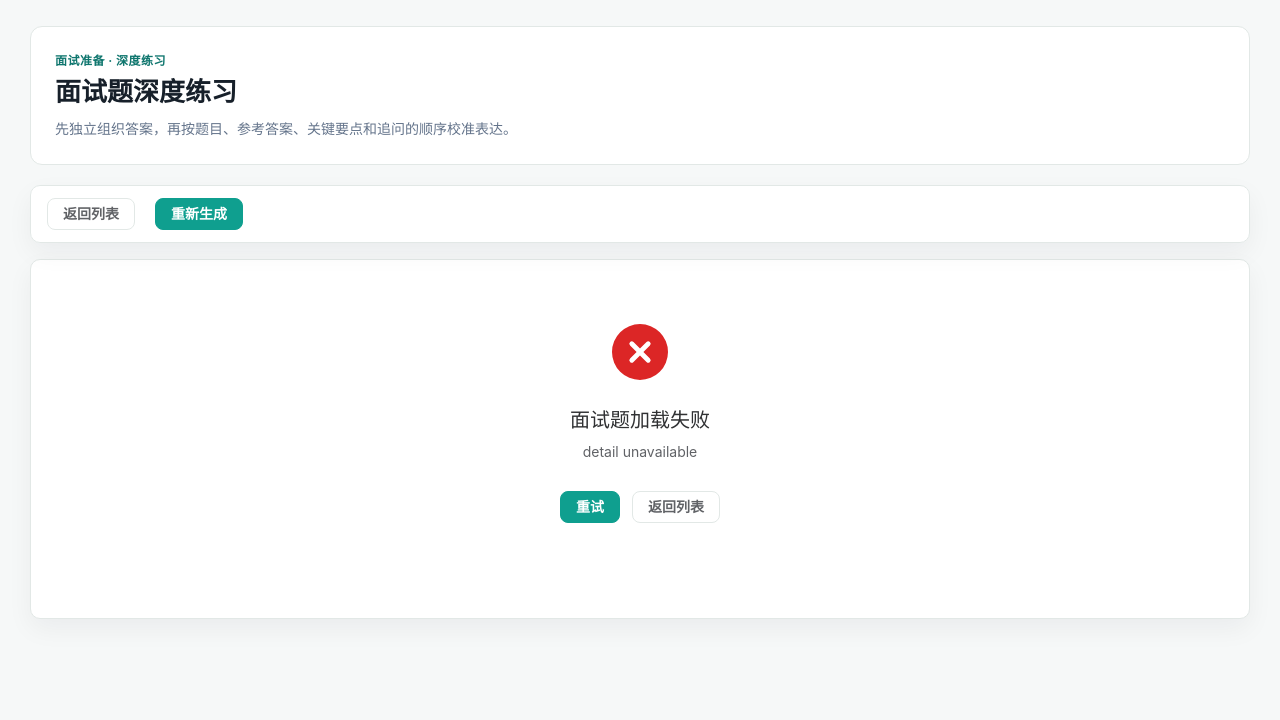
Test case: interview question detail legacy contracts › keeps detail and regeneration failures recoverable
Click the button "重试". click: (590, 507)
box: 560,491 -> 620,523
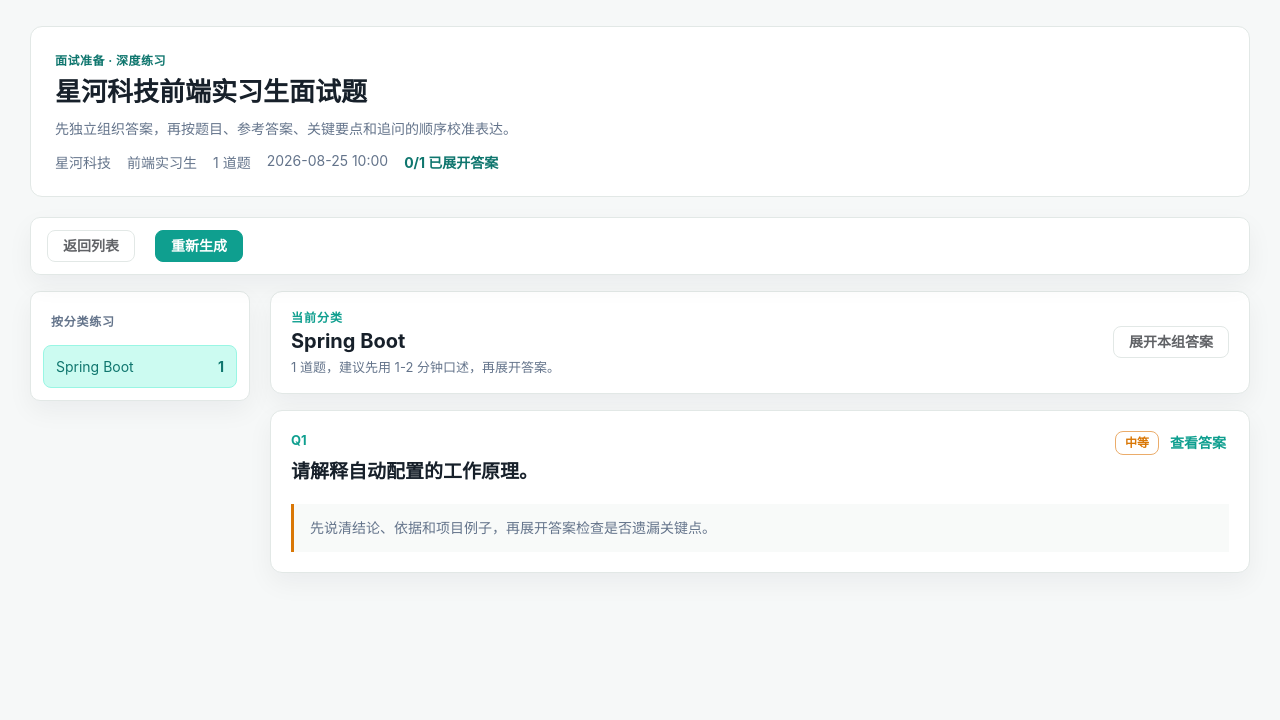
expect the text "请解释自动配置的工作原理。" is shown: met, box 291,456 -> 538,488
